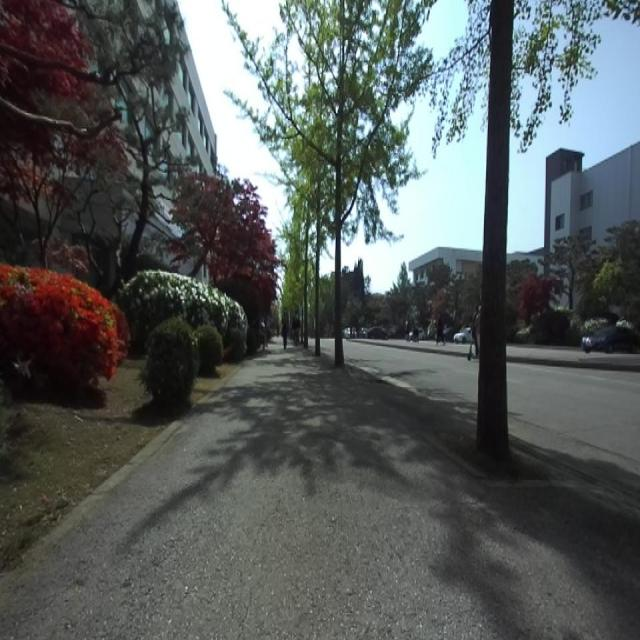sidewalk: (0, 344, 640, 638)
